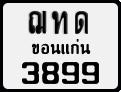letters: (28, 9, 48, 35), (20, 60, 40, 85), (41, 60, 60, 85), (50, 9, 68, 35), (61, 61, 80, 85), (81, 61, 100, 85), (73, 10, 90, 35)
province: (31, 38, 91, 56)
